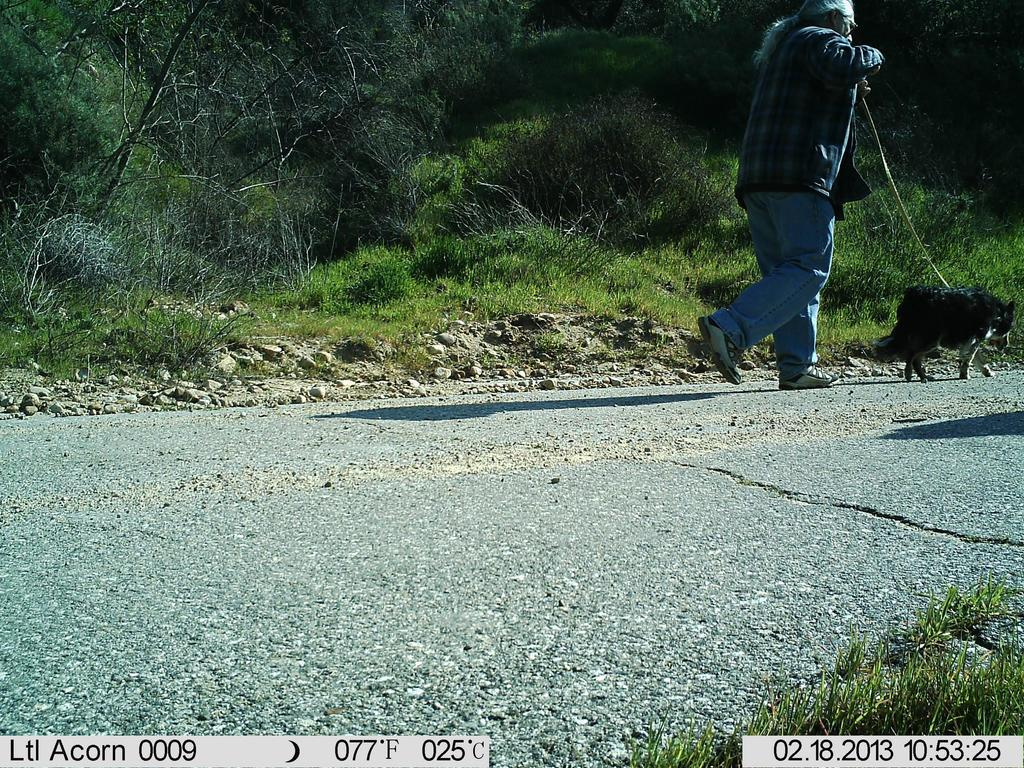dog: (862, 283, 1022, 389)
